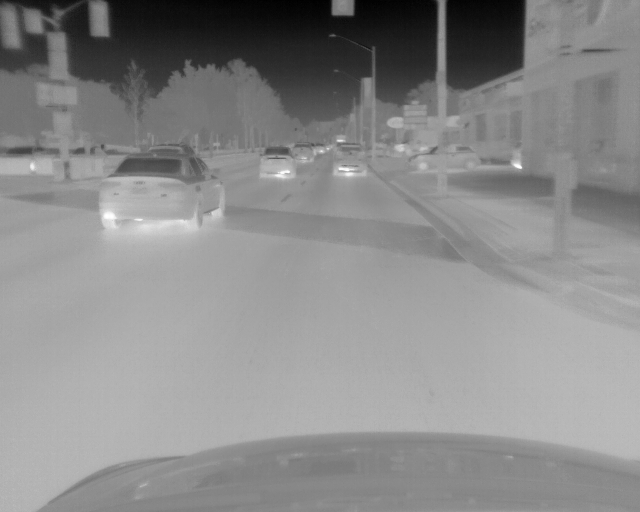car: (98, 150, 227, 230), (409, 144, 480, 173), (256, 146, 296, 180), (332, 144, 366, 178), (146, 142, 193, 157), (291, 143, 313, 164), (312, 144, 325, 155)
